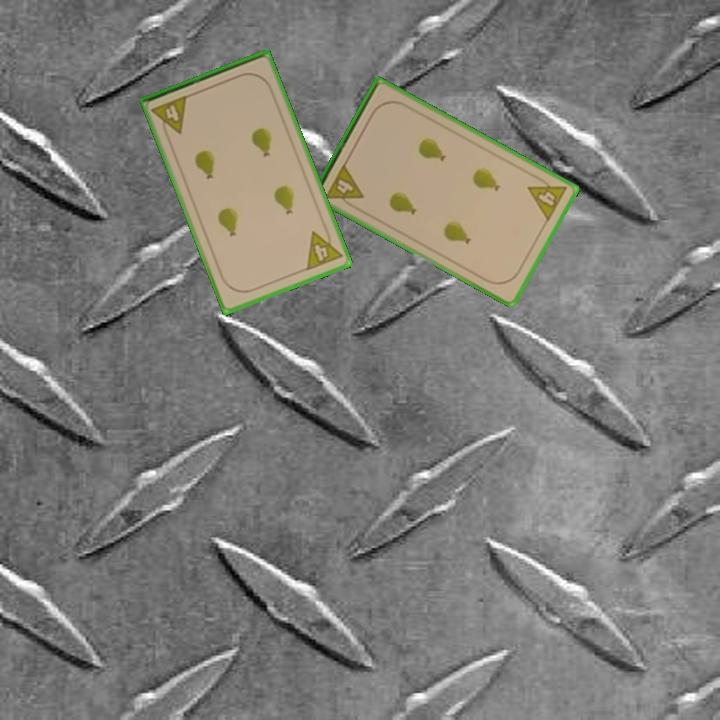4p: (524, 171, 570, 224), (322, 160, 367, 212), (148, 92, 191, 141), (303, 223, 345, 273)
